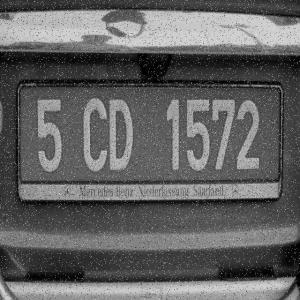Plate: (16, 80, 284, 199)
